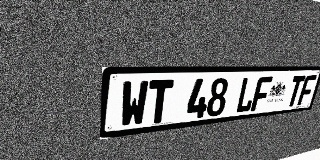4: (185, 78, 211, 120)
8: (205, 78, 230, 117)
F: (250, 76, 273, 111), (297, 75, 317, 106)
L: (235, 77, 258, 113)
T: (146, 80, 174, 125), (285, 75, 306, 107)
W: (119, 80, 149, 128)
